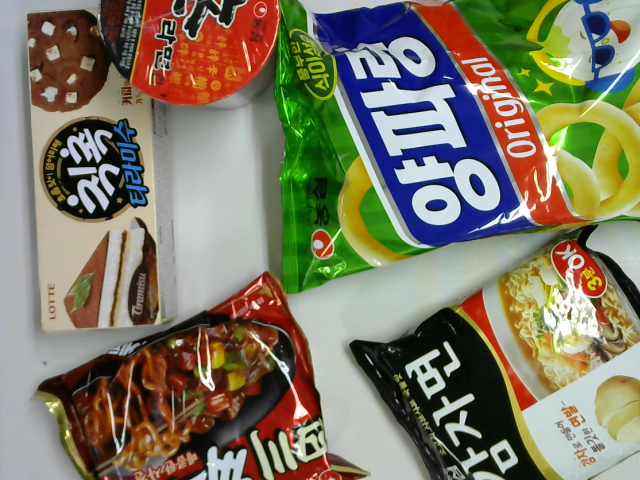Chicchok_Tiramisu: (22, 7, 182, 331)
Oninon_Ring: (274, 1, 639, 297)
Potato: (345, 222, 638, 480)
Sichuan_Chapaghetti: (27, 270, 376, 480)
Sinramen_small: (102, 1, 281, 108)
